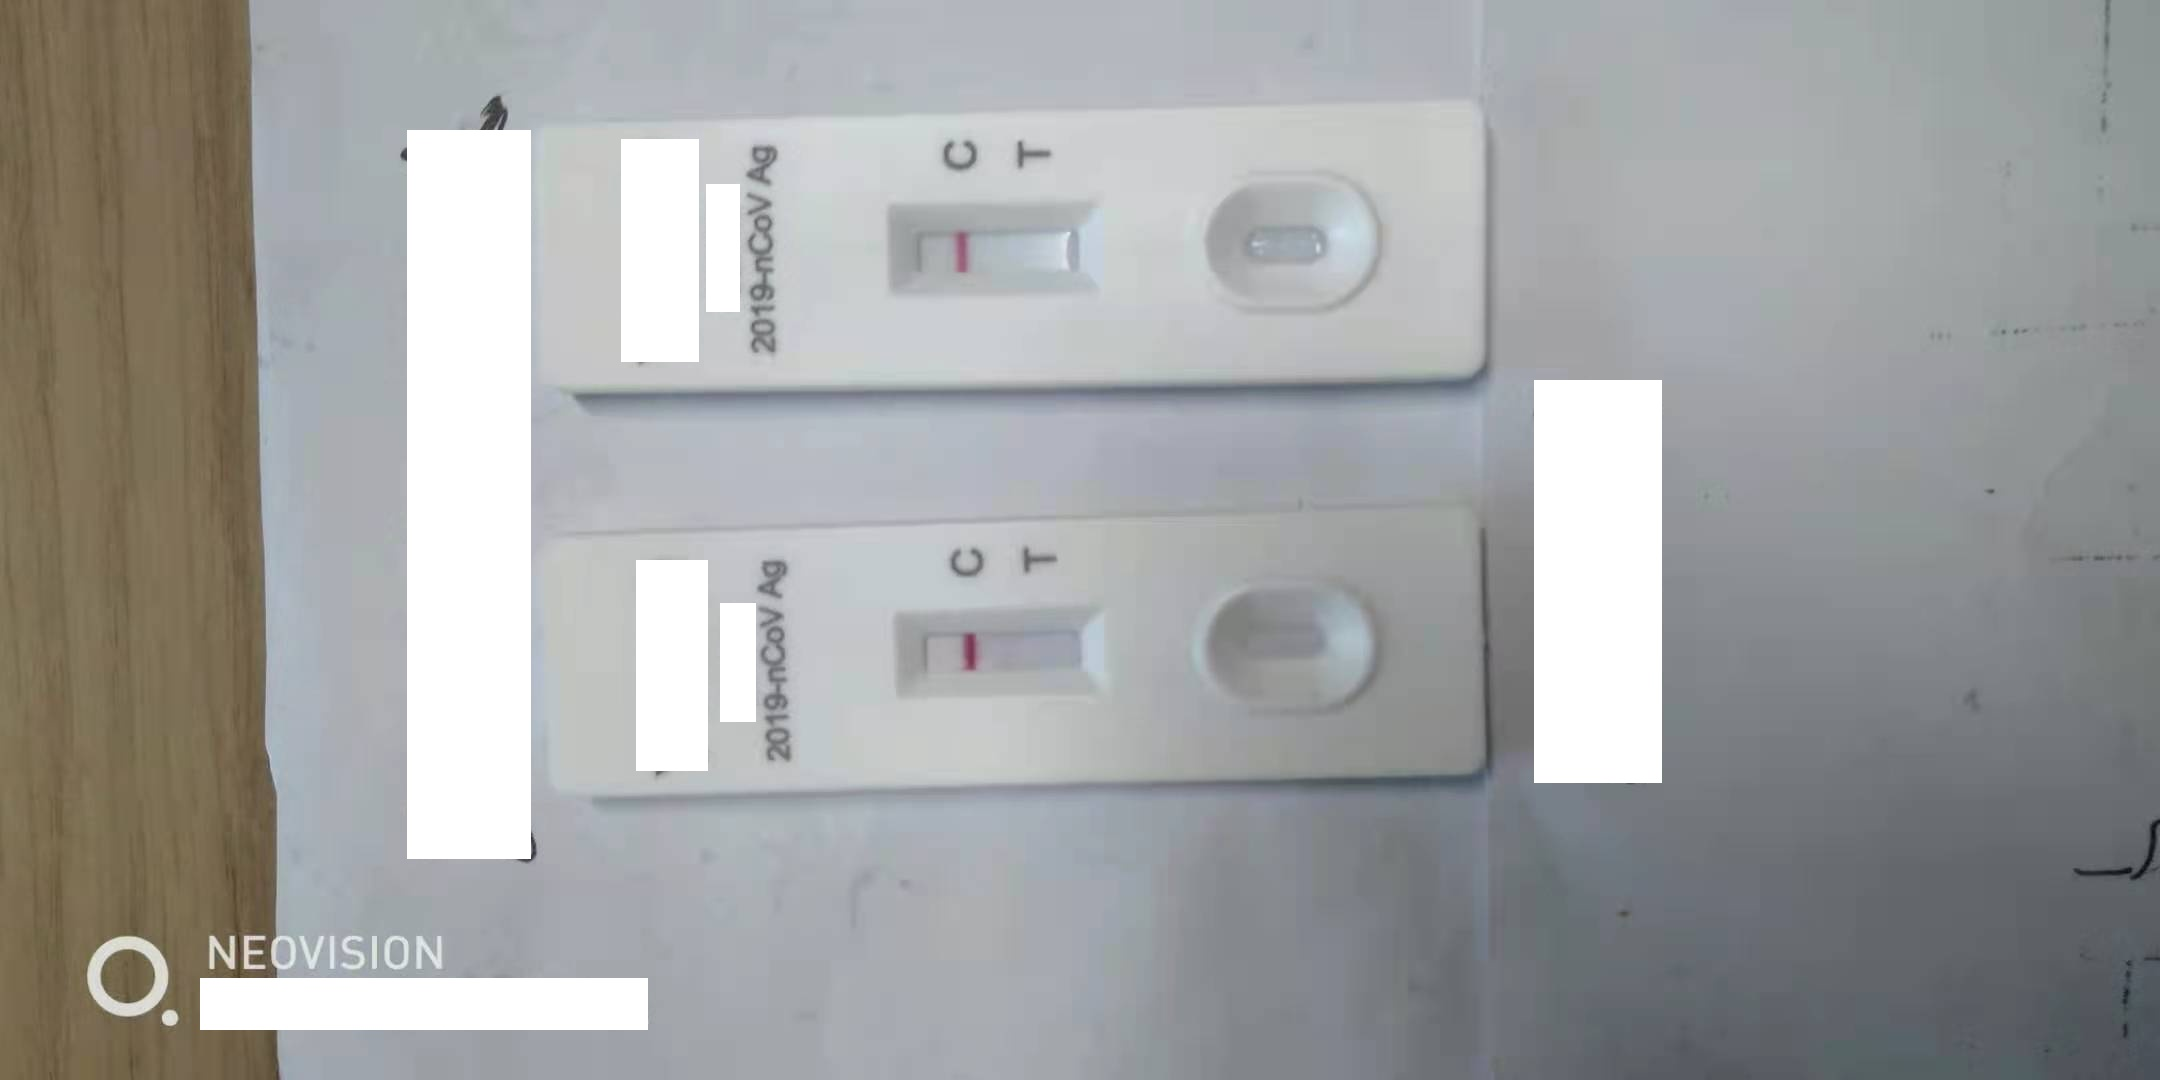negative: (891, 605, 1121, 704), (883, 198, 1103, 302)
